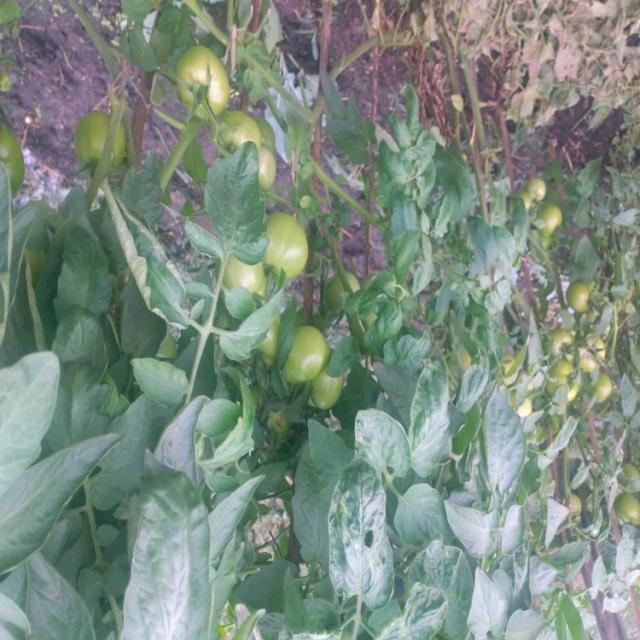tomato: (168, 46, 235, 118), (78, 108, 143, 177), (260, 200, 315, 278), (204, 114, 270, 161), (1, 115, 36, 200), (291, 326, 336, 387), (216, 256, 266, 301), (545, 355, 584, 399), (324, 264, 358, 304), (308, 362, 338, 407), (578, 333, 610, 368), (544, 198, 565, 239), (615, 496, 640, 527), (568, 283, 590, 314), (539, 330, 566, 355), (592, 381, 619, 404)
